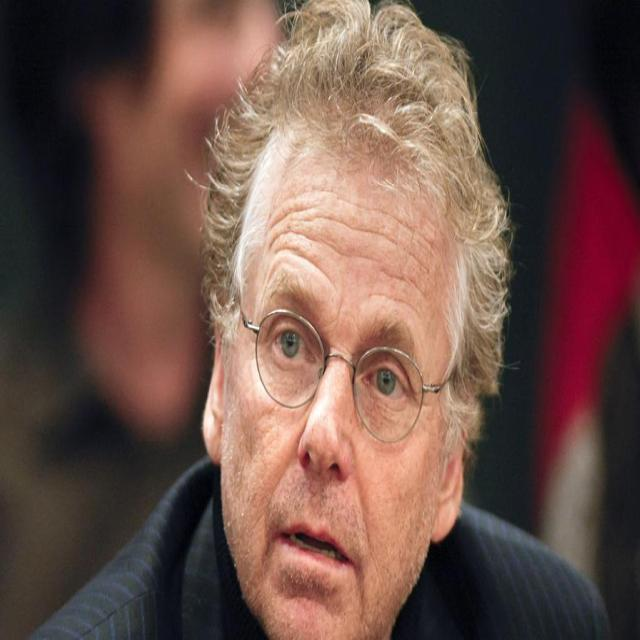Face: (217, 96, 487, 640)
